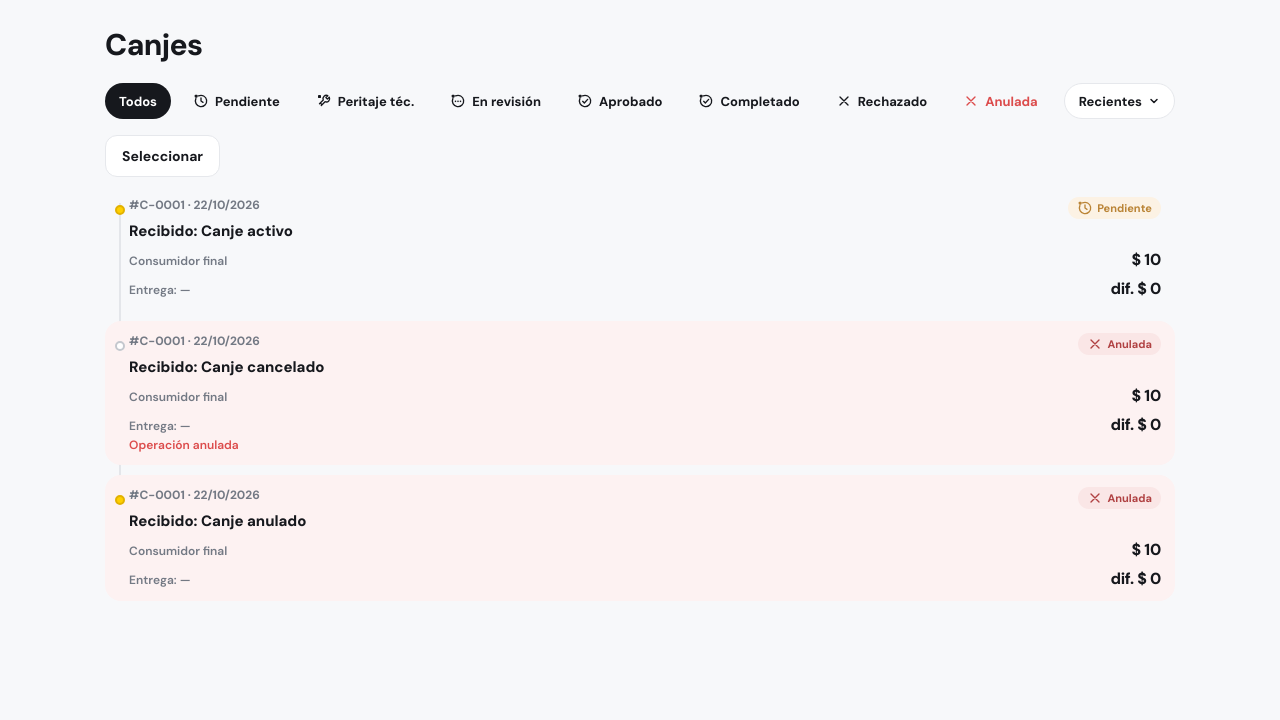
Test: archived list rows at 390px › shows cancelled and voided trades in red while excluding them from an active state
Step 1. Click the button "Anulada" → (1001, 101), box x1=949 y1=83 x2=1052 y2=119
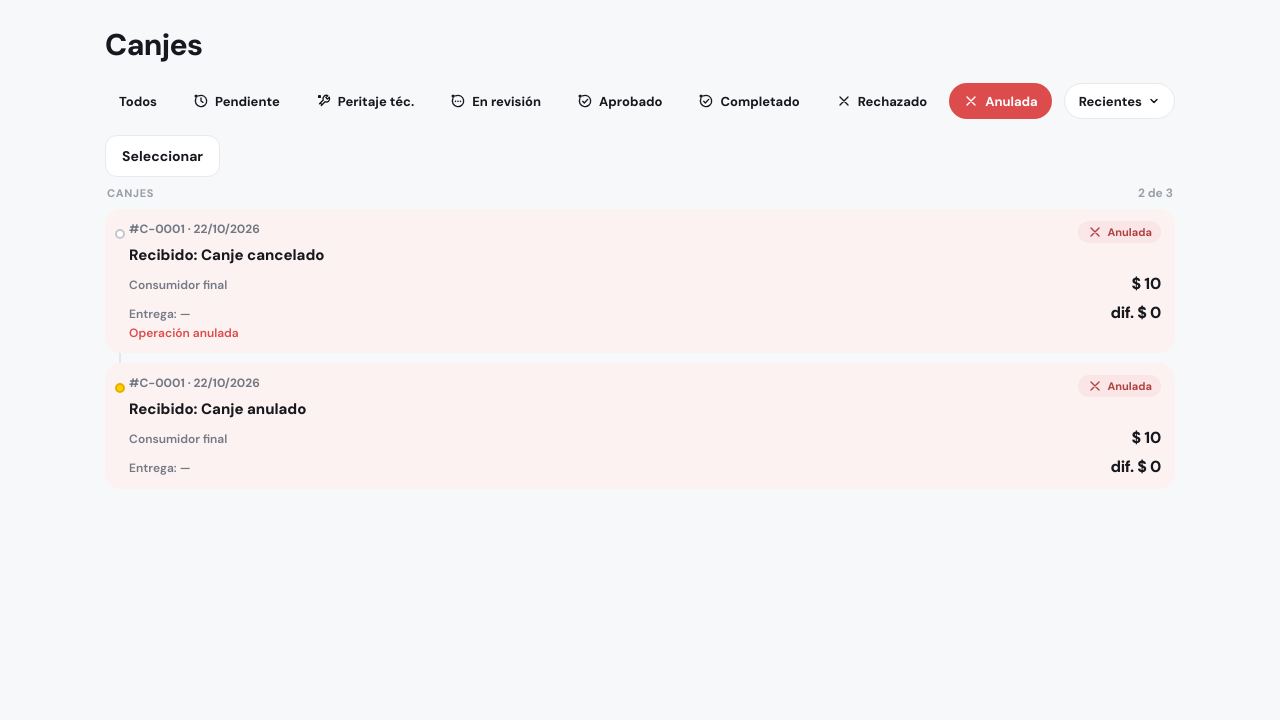
Expected: the text "Recibido: Canje anulado" is shown, x1=129 y1=399 x2=306 y2=419
Result: the button "Recibido: Canje activo" is gone
Step 2. Click the button "Pendiente" → (236, 101), box x1=179 y1=83 x2=294 y2=119
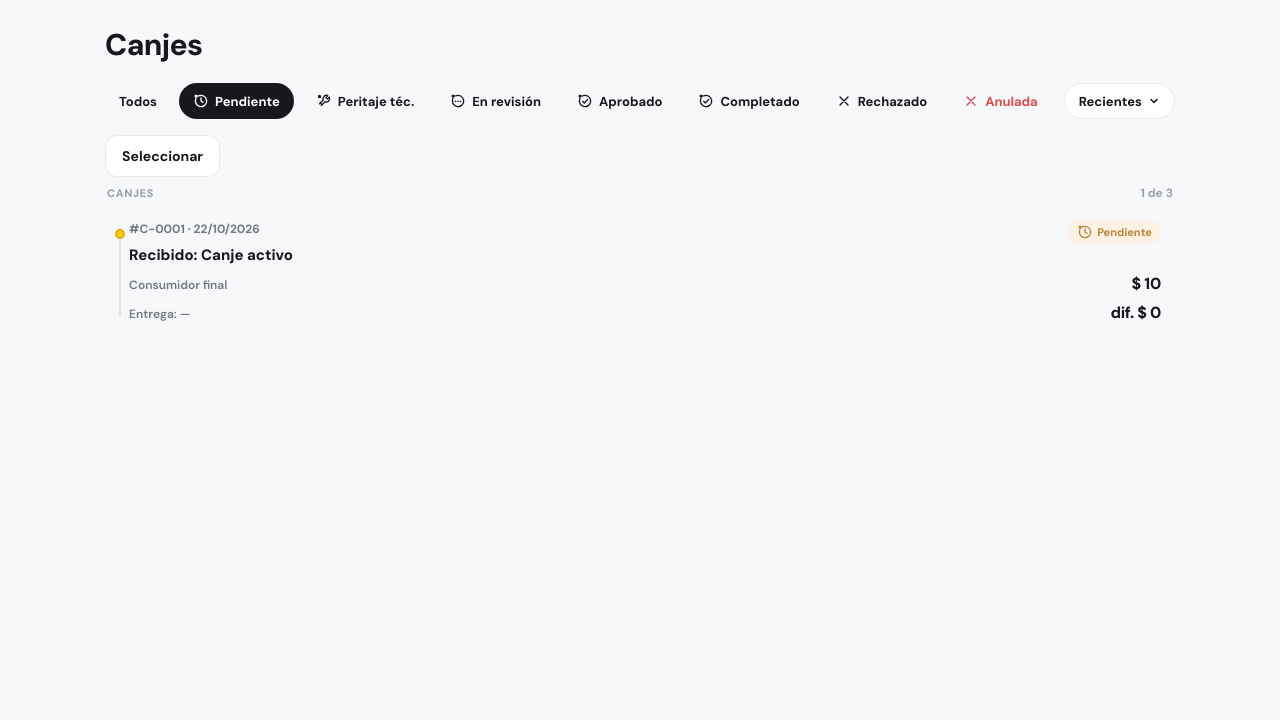
Result: the button "Recibido: Canje anulado" is gone
Result: the button "Recibido: Canje cancelado" is gone
